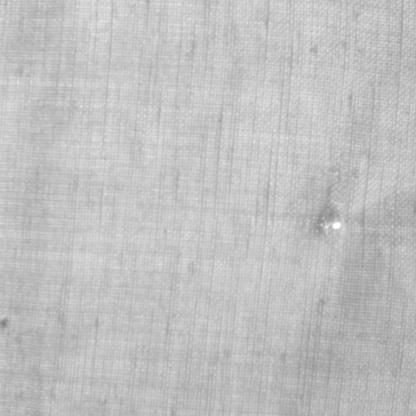hole: (314, 206, 343, 238)
